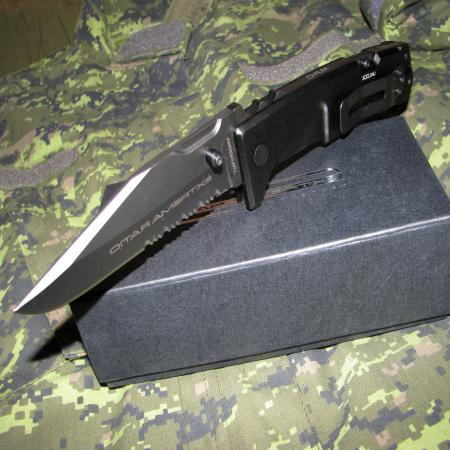long weapon: (7, 94, 255, 318)
